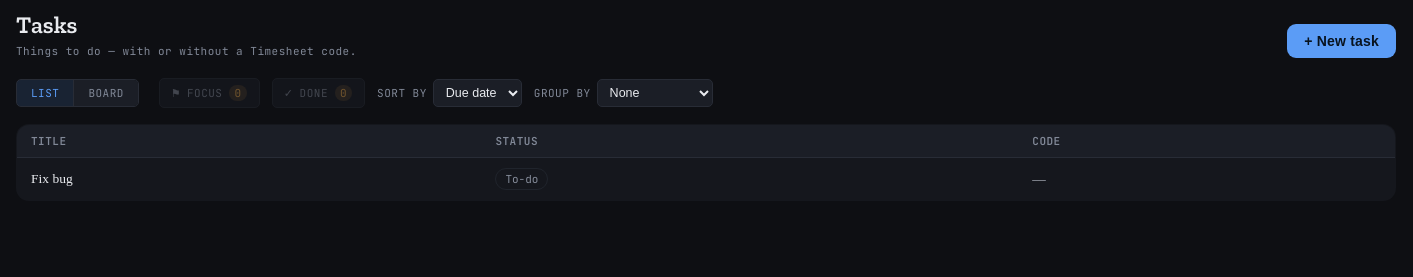
Scenario: TasksScreen › switches back to the list from the board
Click the button with test id "wk-task-view-board".
click(106, 93)  # box [74,80,138,106]
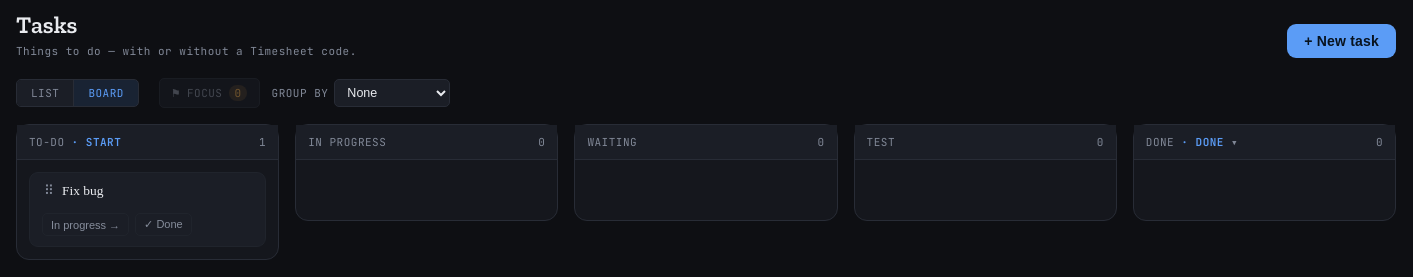
Click the button with test id "wk-task-view-list".
click(46, 93)  # box [17,80,74,106]
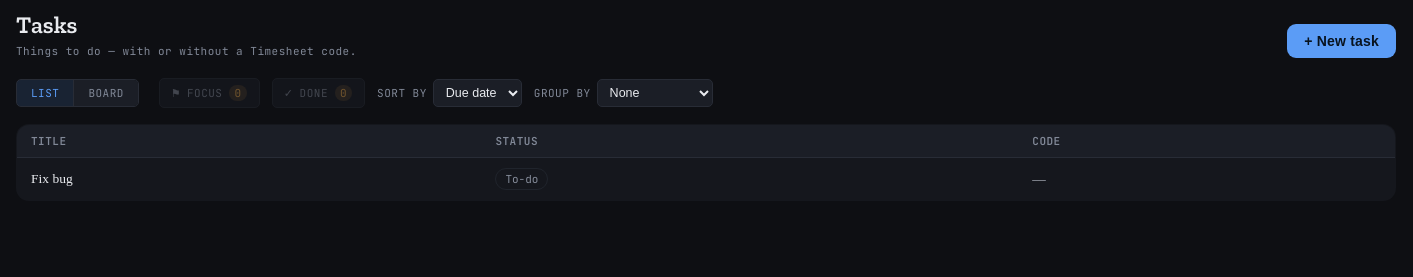
Check: the table with test id "wk-task-table" is shown, box [16,124,1396,201]
Check: the element with test id "wk-board-column-todo" is gone
